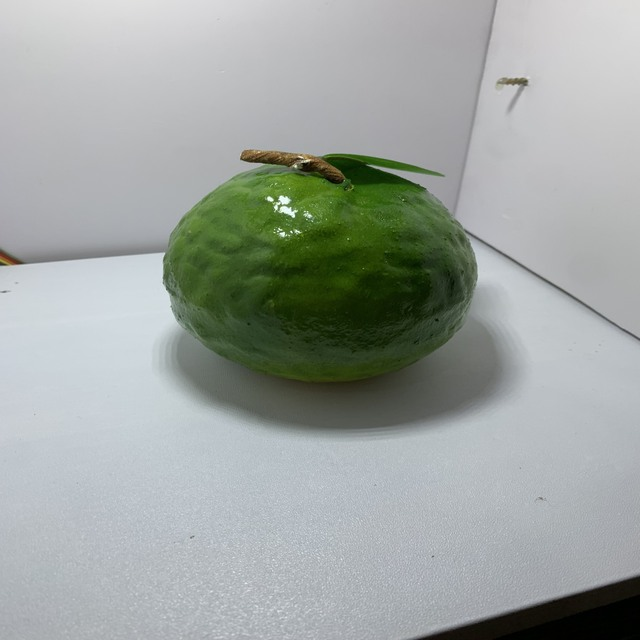Cam xanh: (153, 153, 489, 395)
